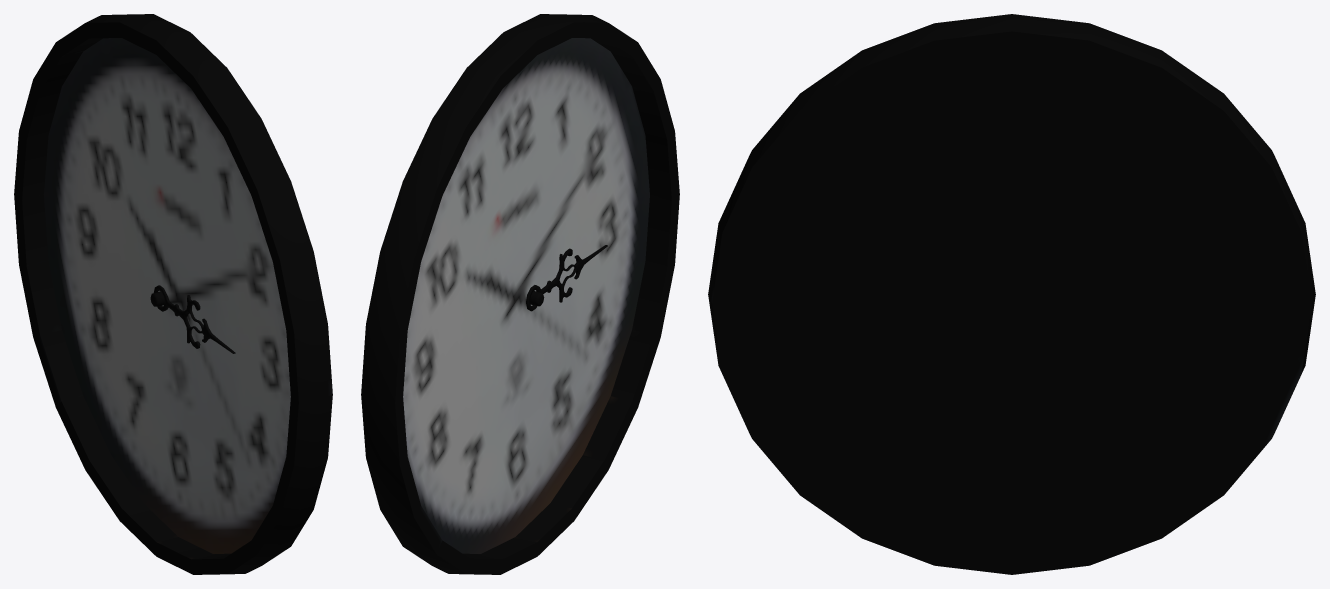
The model's file is Clock.fbx.
3 views of the same model, side by side, from view 1: azimuth 30°, elevation 25°; view 2: azimuth 150°, elevation 25°; view 3: azimuth 270°, elevation 25° (orthographic). The views are drawn at different scales.
Visible parts, largest first — view 1: Clock; view 2: Clock; view 3: Clock.
Part boxes in pixels (x1,y1,x2,y2): Clock: (14,14,332,574); Clock: (361,14,679,574); Clock: (708,14,1315,574).
Bounding box in the file's own units: 0.0462 × 0.6128 × 0.6128.
